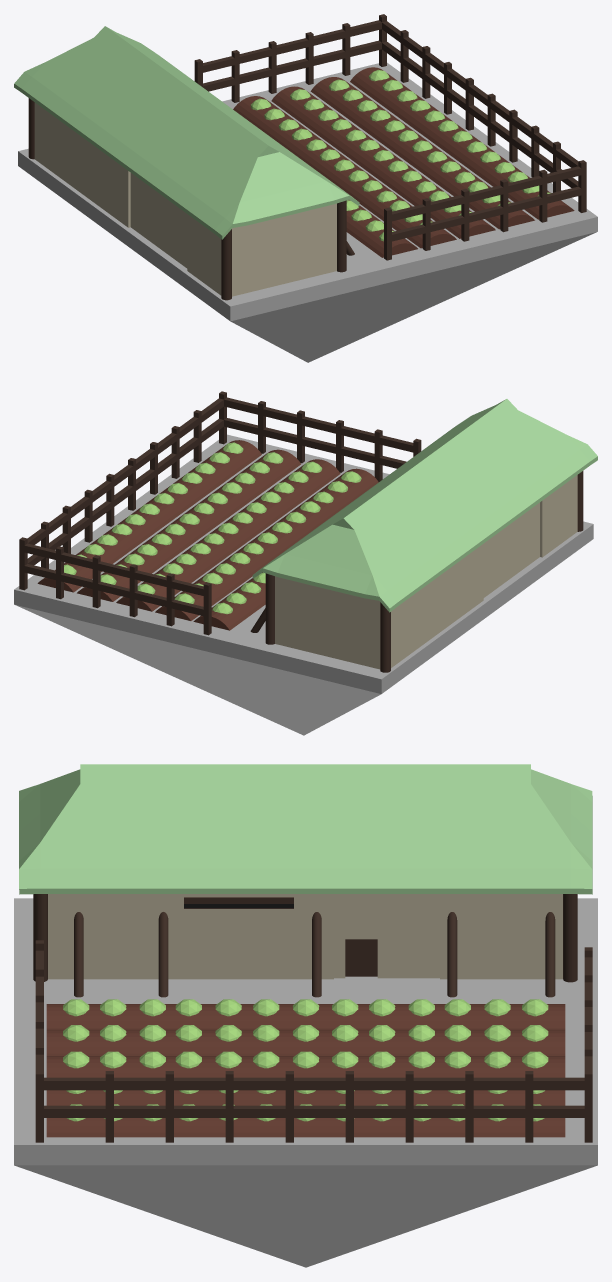
The model's file is Building Farm T1.fbx.
The picture shows the model from 3 angles, top to bottom: view 1: azimuth 30°, elevation 25°; view 2: azimuth 150°, elevation 25°; view 3: azimuth 270°, elevation 25°; orthographic projection. The views are drawn at different scales.
Visible parts, largest first — view 1: Farm T1; view 2: Farm T1; view 3: Farm T1.
Boxes of the visible parts, box(x1,y1,x2,y2) form: Farm T1: box(14, 14, 597, 362); Farm T1: box(14, 391, 597, 735); Farm T1: box(14, 764, 597, 1267).
Size of the model in its own units: 1626 by 1275 by 1599.
